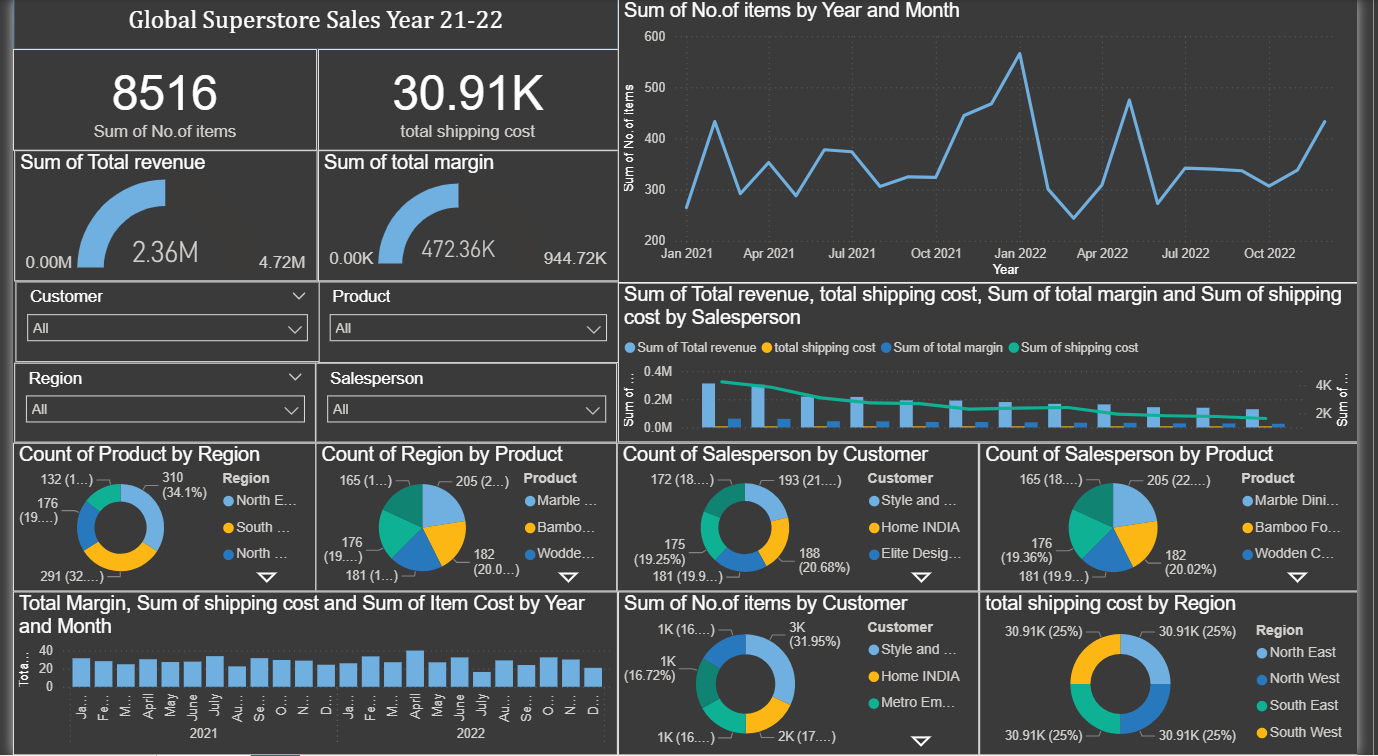

This screenshot's page, from the dashboard's own definition file:
{"tool":"powerbi","page":{"name":"Page 1","canvas":[1280,720],"ordinal":0},"visuals":[{"type":"slicer","fields":{"Values":["Salesperson (Raw_Data).Region"]},"box":[1.3,346.4,287.3,76.1],"z":0},{"type":"slicer","fields":{"Values":["Salesperson (Raw_Data).Product"]},"box":[289.9,269,286,77.4],"z":1000},{"type":"slicer","fields":{"Values":["Salesperson (Raw_Data).Customer"]},"box":[2.1,268.8,289.6,77.1],"z":2000},{"type":"slicer","fields":{"Values":["Salesperson (Raw_Data).Salesperson"]},"box":[288.6,346.4,287.3,76.1],"z":3000},{"type":"donutChart","fields":{"Category":["Salesperson (Raw_Data).Region"],"Y":["CountNonNull(Salesperson (Raw_Data).Product)"]},"box":[0,422.5,288.6,141.7],"z":4000},{"type":"pieChart","fields":{"Y":["CountNonNull(Salesperson (Raw_Data).Region)"],"Category":["Salesperson (Raw_Data).Product"]},"box":[288.6,422.5,287.3,141.7],"z":5000},{"type":"donutChart","fields":{"Y":["CountNonNull(Salesperson (Raw_Data).Salesperson)"],"Category":["Salesperson (Raw_Data).Customer"]},"box":[574.6,422.5,345,141.7],"z":6000},{"type":"donutChart","fields":{"Category":["Salesperson (Raw_Data).Customer"],"Y":["Salesperson (Raw_Data).Sum of No.of items"]},"box":[576,564.1,343.7,156.1],"z":7000},{"type":"pieChart","fields":{"Y":["CountNonNull(Salesperson (Raw_Data).Salesperson)"],"Category":["Salesperson (Raw_Data).Product"]},"box":[919.7,422.5,360.8,141.7],"z":8000},{"type":"donutChart","fields":{"Category":["Salesperson (Raw_Data).Region"],"Y":["Raw_Data.total shipping cost"]},"box":[919.7,564.1,360.8,156.1],"z":9000},{"type":"clusteredColumnChart","fields":{"Category":["Salesperson (Raw_Data).Date.Variation.Date Hierarchy.Year","Salesperson (Raw_Data).Date.Variation.Date Hierarchy.Month"],"Y":["Raw_Data.Total Margin"]},"box":[0,564.1,576,156.1],"z":10000},{"type":"lineClusteredColumnComboChart","fields":{"Category":["Raw_Data.Salesperson"],"Y":["Sum(Raw_Data.Total revenue)","Raw_Data.total shipping cost","Raw_Data.Sum of total margin"],"Y2":["Sum(Raw_Data.shipping cost)"]},"box":[576,270.3,704.5,152.2],"z":11000},{"type":"lineChart","fields":{"Y":["Salesperson (Raw_Data).Sum of No.of items"],"Category":["Salesperson (Raw_Data).Date.Variation.Date Hierarchy.Year","Salesperson (Raw_Data).Date.Variation.Date Hierarchy.Month"]},"box":[576,0,704.5,270.3],"z":12000},{"type":"gauge","fields":{"Y":["Sum(Raw_Data.Total revenue)"]},"box":[1.3,144.3,288.6,124.6],"z":13000},{"type":"gauge","fields":{"Y":["Raw_Data.Sum of total margin"]},"box":[289.9,144.3,286,124.6],"z":14000},{"type":"card","fields":{"Values":["Salesperson (Raw_Data).Sum of No.of items"]},"box":[0,47.2,289.9,97.1],"z":15000},{"type":"card","fields":{"Values":["Raw_Data.total shipping cost"]},"box":[289.9,47.2,286,97.1],"z":16000},{"type":"shape","box":[0,0,576,47.2],"z":17000},{"type":"textbox","box":[1.3,0,574.6,47.2],"z":18000}]}

Visuals, with their boxes in screenshot pixels (x1, y1, x2, y2), scaled from the page's 1280x720 canvas onto the 1378x756 screenshot:
slicer - Salesperson (Raw_Data).Region: (1, 364, 311, 444)
slicer - Salesperson (Raw_Data).Product: (312, 282, 620, 364)
slicer - Salesperson (Raw_Data).Customer: (2, 282, 314, 363)
slicer - Salesperson (Raw_Data).Salesperson: (311, 364, 620, 444)
donutChart - Salesperson (Raw_Data).Region x CountNonNull(Salesperson (Raw_Data).Product): (0, 444, 311, 592)
pieChart - CountNonNull(Salesperson (Raw_Data).Region) x Salesperson (Raw_Data).Product: (311, 444, 620, 592)
donutChart - CountNonNull(Salesperson (Raw_Data).Salesperson) x Salesperson (Raw_Data).Customer: (619, 444, 990, 592)
donutChart - Salesperson (Raw_Data).Customer x Salesperson (Raw_Data).Sum of No.of items: (620, 592, 990, 755)
pieChart - CountNonNull(Salesperson (Raw_Data).Salesperson) x Salesperson (Raw_Data).Product: (990, 444, 1377, 592)
donutChart - Salesperson (Raw_Data).Region x Raw_Data.total shipping cost: (990, 592, 1377, 755)
clusteredColumnChart - Salesperson (Raw_Data).Date.Variation.Date Hierarchy.Year x Salesperson (Raw_Data).Date.Variation.Date Hierarchy.Month: (0, 592, 620, 755)
lineClusteredColumnComboChart - Raw_Data.Salesperson x Sum(Raw_Data.Total revenue): (620, 284, 1377, 444)
lineChart - Salesperson (Raw_Data).Sum of No.of items x Salesperson (Raw_Data).Date.Variation.Date Hierarchy.Year: (620, 0, 1377, 284)
gauge - Sum(Raw_Data.Total revenue): (1, 152, 312, 282)
gauge - Raw_Data.Sum of total margin: (312, 152, 620, 282)
card - Salesperson (Raw_Data).Sum of No.of items: (0, 50, 312, 152)
card - Raw_Data.total shipping cost: (312, 50, 620, 152)
shape: (0, 0, 620, 50)
textbox: (1, 0, 620, 50)
